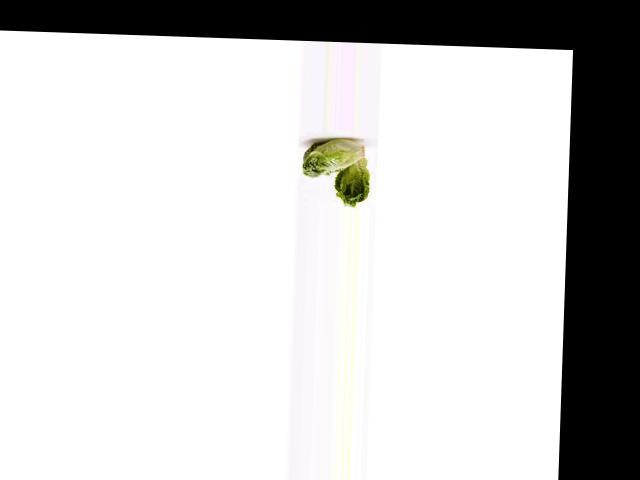lettuce: (298, 134, 369, 183)
